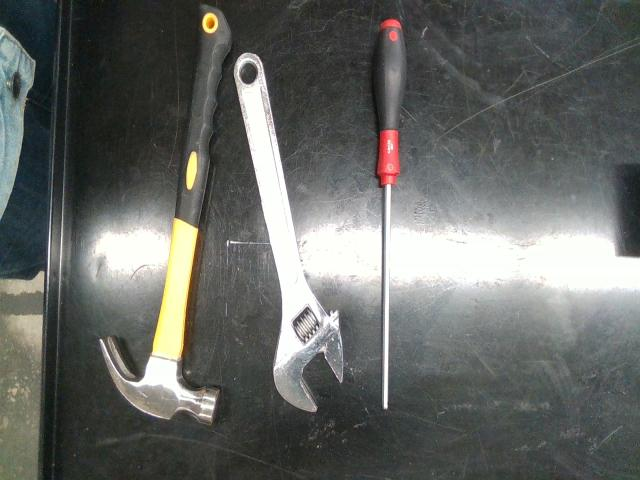Adjustable spanner: (234, 53, 344, 412)
Hammer: (100, 5, 231, 424)
Screwdriver: (374, 18, 406, 410)
